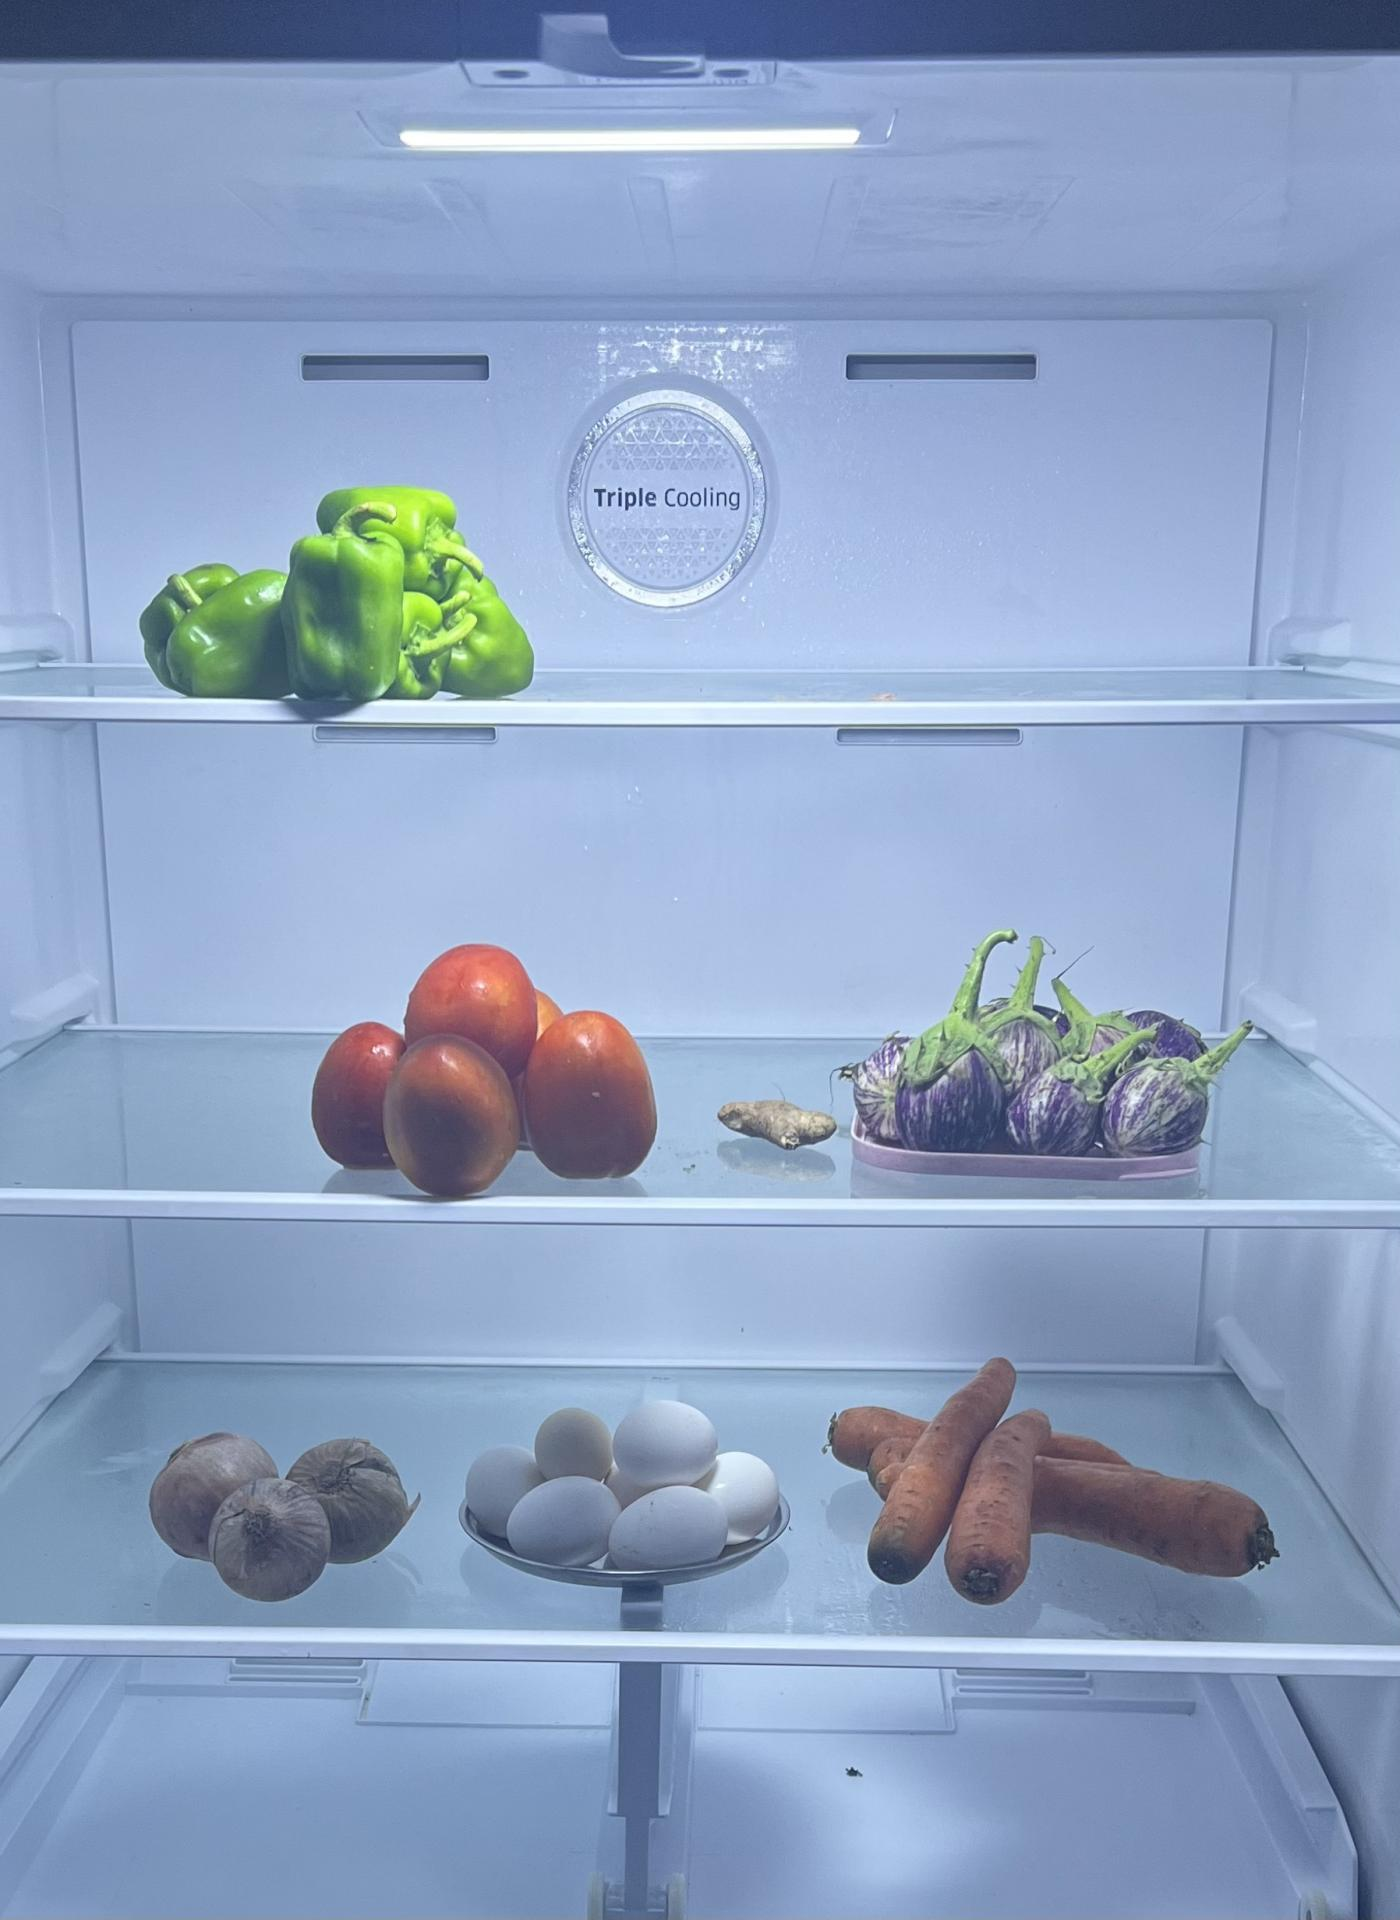capsicum: (136, 522, 537, 714)
carrots: (838, 1362, 1287, 1607)
egg: (462, 1382, 786, 1565)
ginger: (716, 1088, 838, 1155)
onion: (859, 959, 1211, 1166), (151, 1427, 423, 1605)
tomato: (310, 935, 668, 1196)
